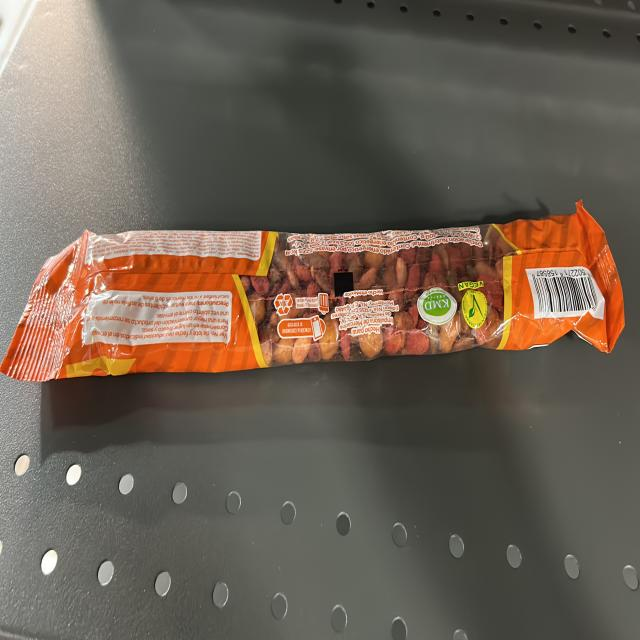bitzEnchilado95: (40, 228, 621, 348)
